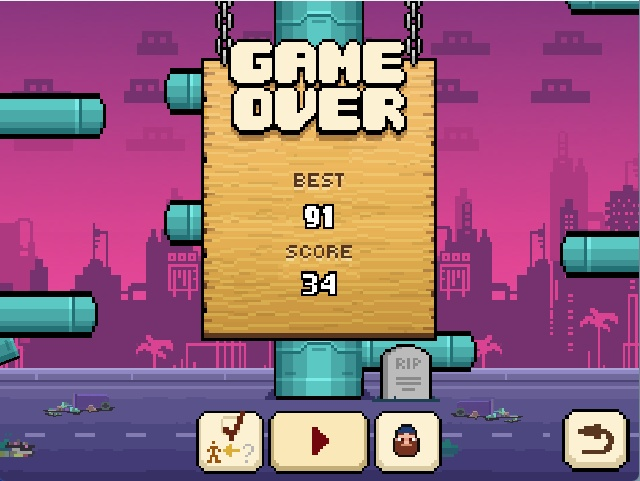game_over: (222, 33, 412, 147)
